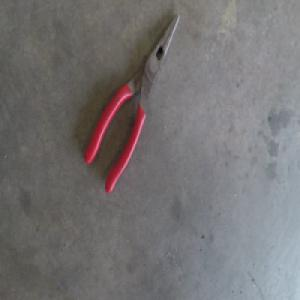Pliers: (78, 14, 175, 194)
